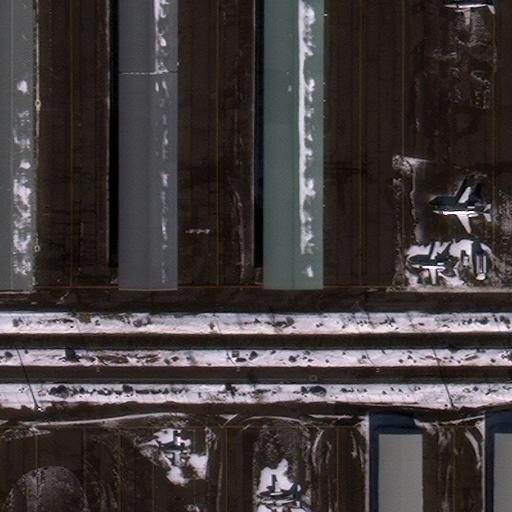Medium Civil Transport: (432, 185, 491, 233)
Small Civil Transport: (410, 241, 457, 284), (444, 0, 494, 24), (261, 482, 300, 512), (158, 435, 189, 465)
